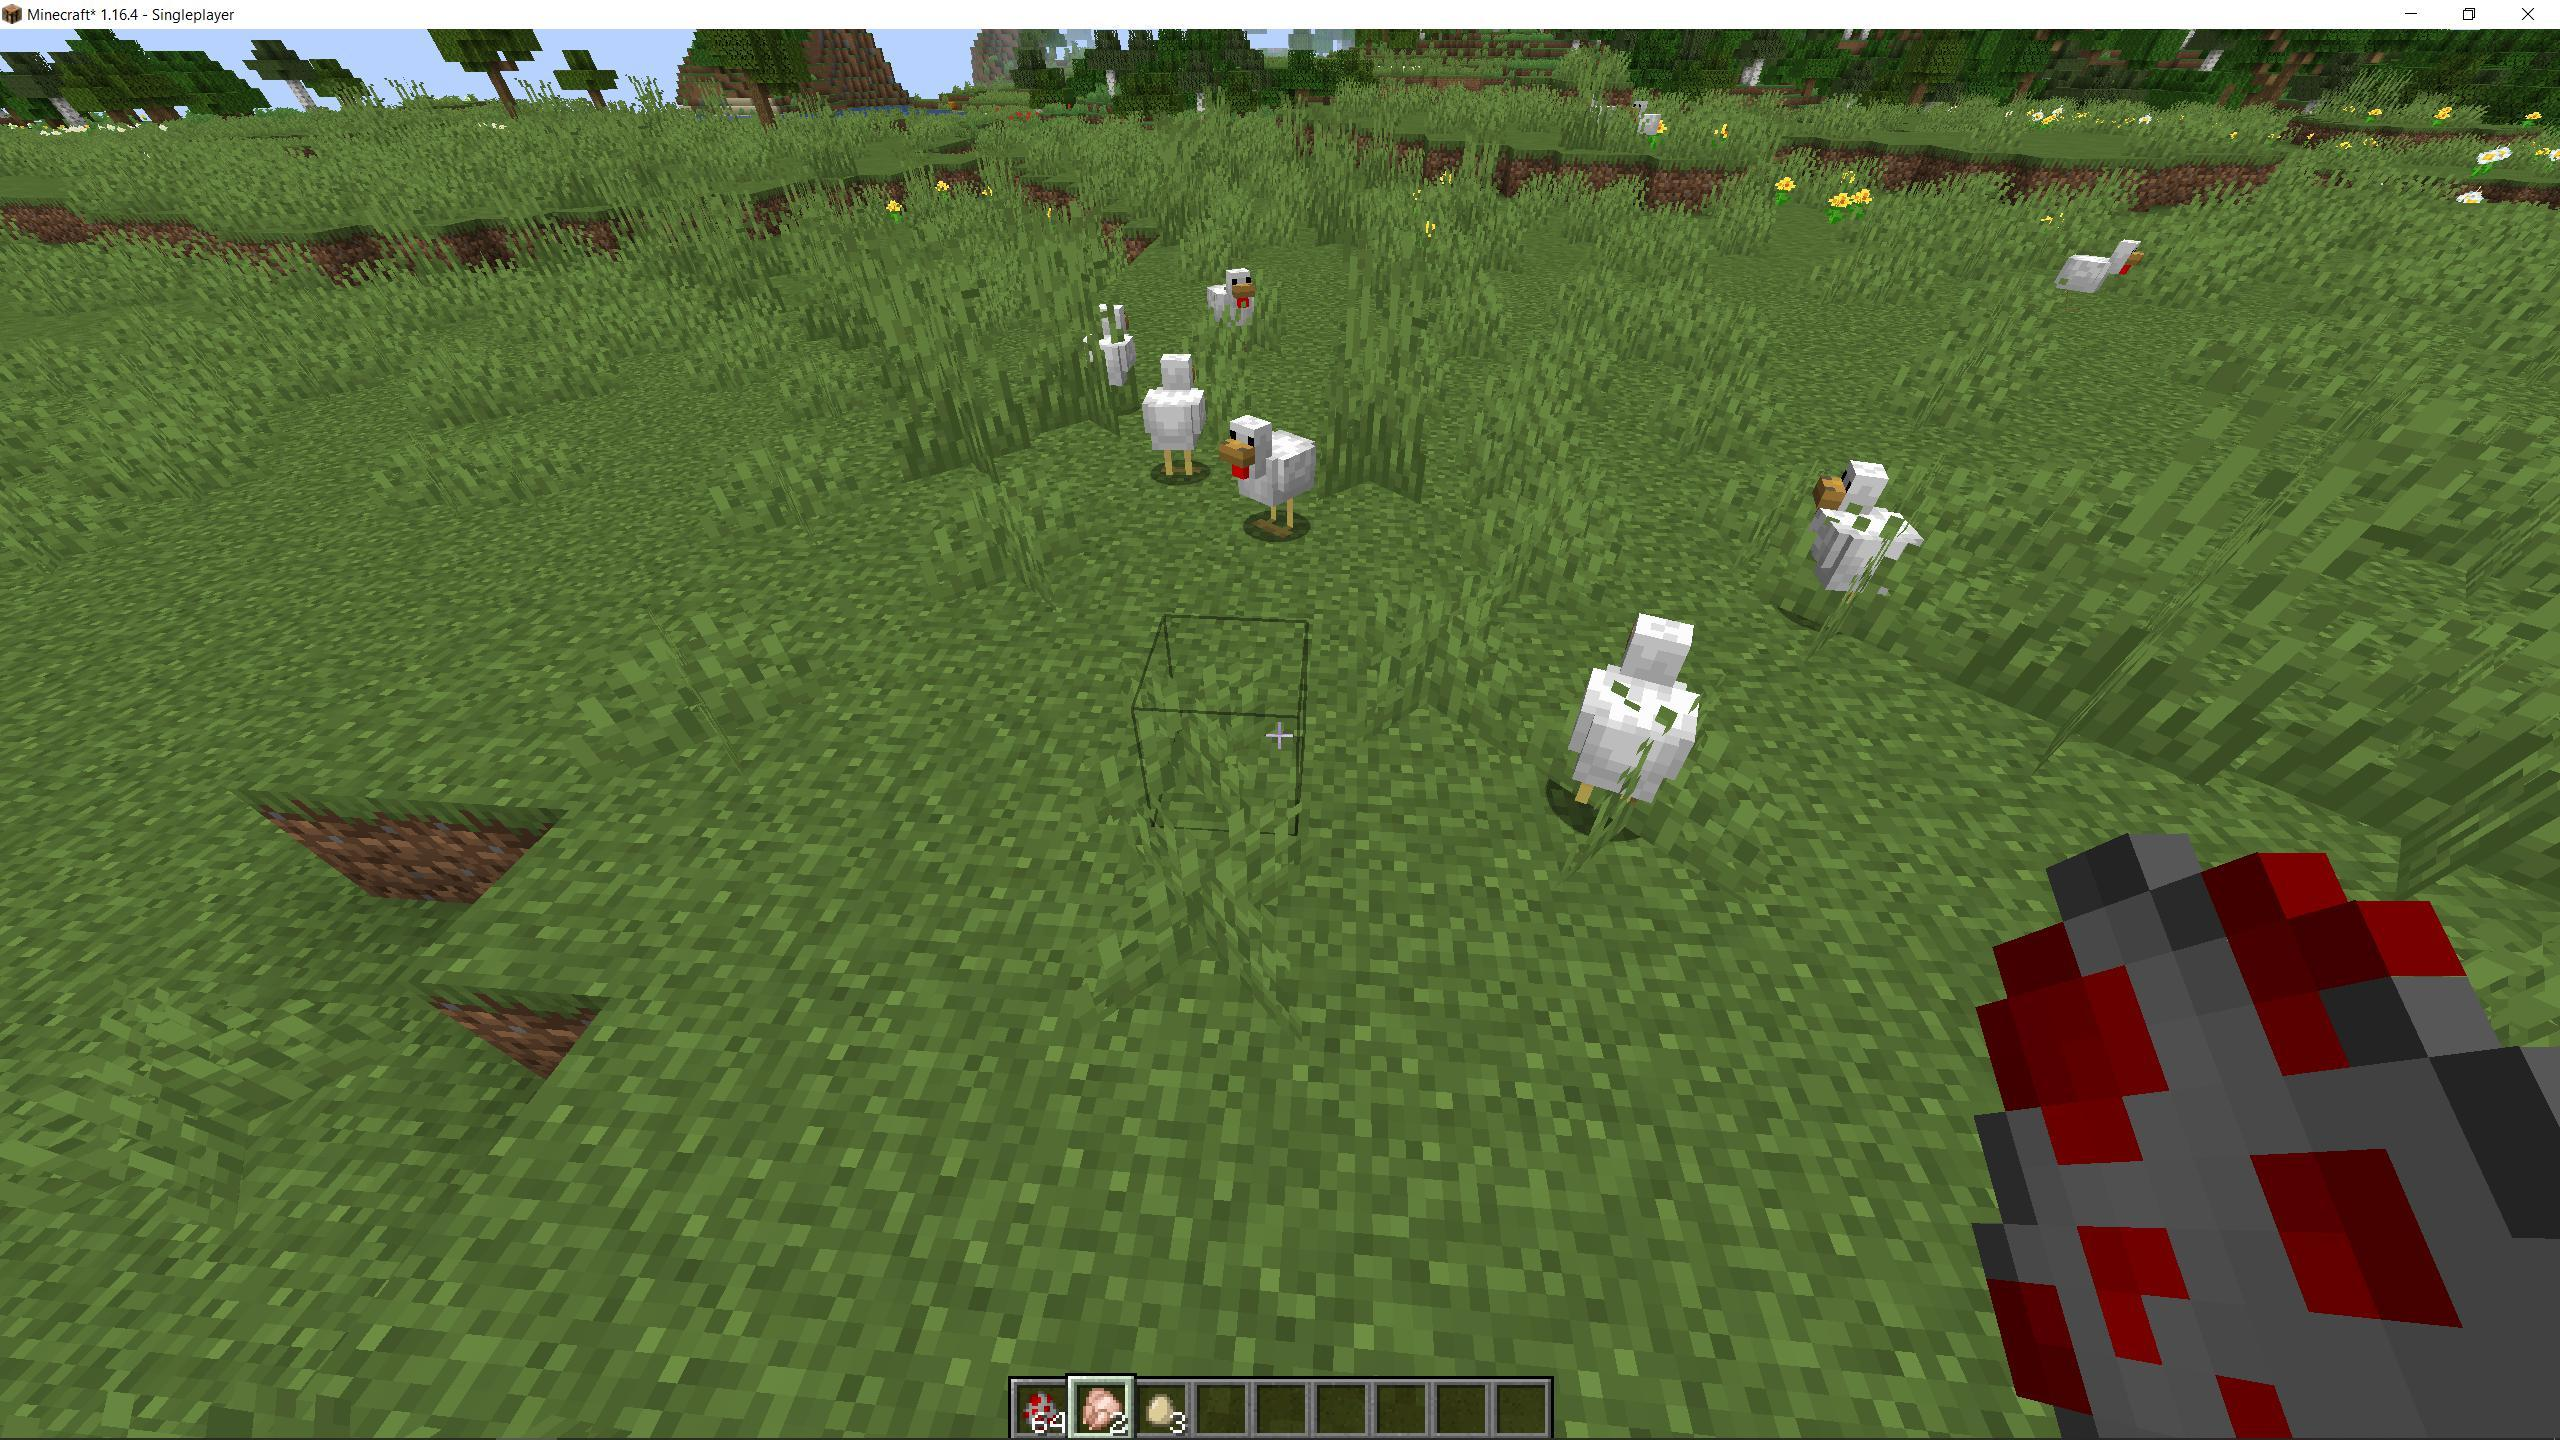chicken: (1568, 607, 1711, 819), (1815, 452, 1925, 622), (1225, 417, 1322, 540), (1136, 353, 1211, 489), (2055, 227, 2150, 318), (1071, 292, 1145, 394), (1197, 258, 1275, 341), (1619, 91, 1676, 149)
